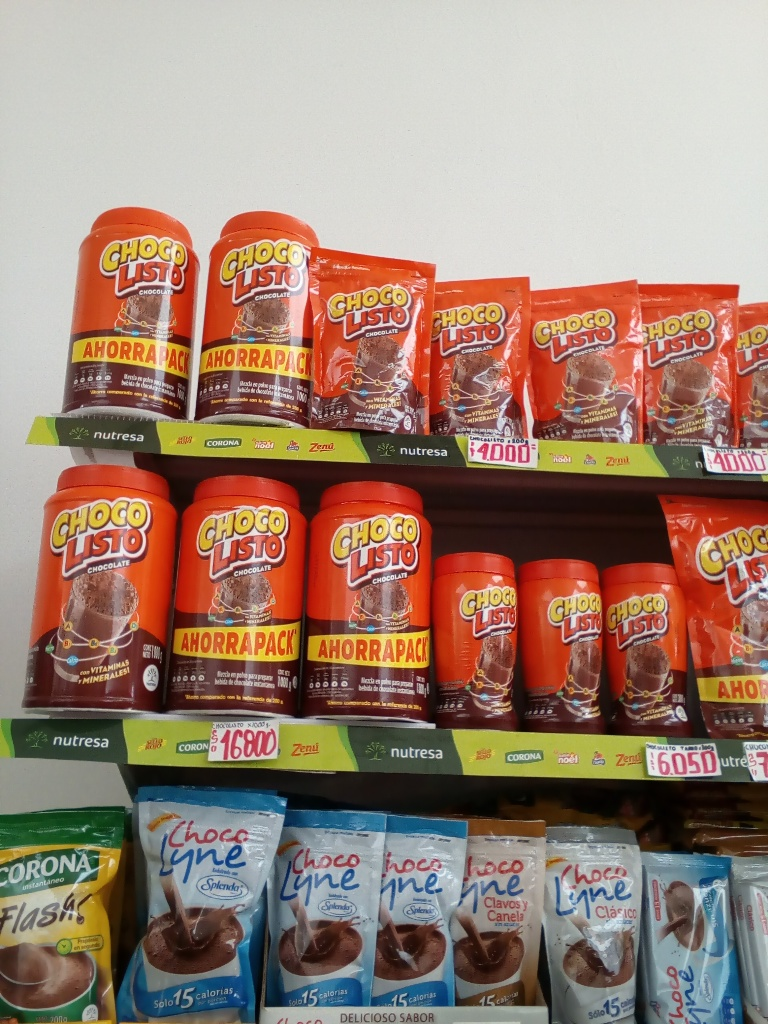COL0170103DYP20000: (300, 238, 442, 439)
COL0170103DYP40000: (671, 484, 765, 737)
COL0170103TRR00100: (64, 197, 201, 424)
COL0170103TRR30000: (434, 555, 527, 734)
